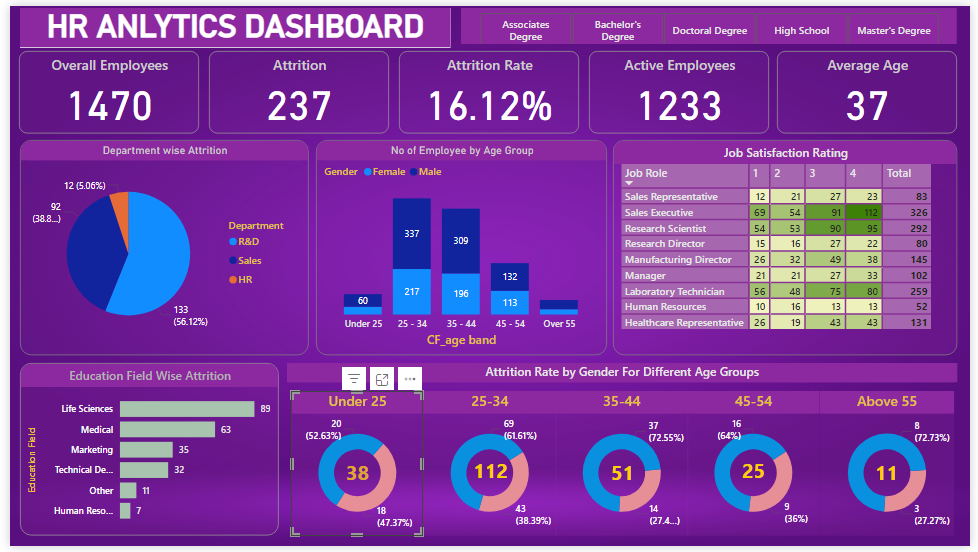

The page's visual inventory and layout, read from the dashboard file:
{"tool":"powerbi","page":{"name":"HR","canvas":[1280,720],"ordinal":0},"visuals":[{"type":"card","title":"Overall Employees","fields":{"Values":["Sum(Table1.Employee Count)"]},"box":[12,60,240,110],"z":0},{"type":"card","title":"Attrition ","fields":{"Values":["Sum(Table1.Attrition Count)"]},"box":[265.7,60,240,110],"z":1000},{"type":"card","title":"Attrition Rate","fields":{"Values":["Table1.Attrition Rate"]},"box":[518,60,240,110],"z":2000},{"type":"card","title":"Active Employees","fields":{"Values":["Table1.Active Employees"]},"box":[772,60,240,110],"z":3000},{"type":"card","title":"Average Age","fields":{"Values":["Avg(Table1.Age)"]},"box":[1022.9,60,240,110],"z":4000},{"type":"pieChart","title":"Department wise Attrition","fields":{"Category":["Table1.Department"],"Y":["Sum(Table1.Attrition Count)"]},"box":[13,178,385,287],"z":5000},{"type":"columnChart","title":"No of Employee by Age Group","fields":{"Category":["Table1.CF_age band"],"Y":["Sum(Table1.Employee Count)"],"Series":["Table1.Gender"]},"box":[408,178,388,287],"z":6000},{"type":"pivotTable","title":"Job Satisfaction Rating","fields":{"Rows":["Table1.Job Role"],"Columns":["Table1.Job Satisfaction"],"Values":["Sum(Table1.Employee Count)"]},"box":[804,178,459,287],"z":7000},{"type":"barChart","title":"Education Field Wise Attrition","fields":{"Category":["Table1.Education Field"],"Y":["Sum(Table1.Attrition Count)"]},"box":[13,476,345,230],"z":8000},{"type":"donutChart","title":"Under 25","fields":{"Category":["Table1.Gender"],"Y":["Sum(Table1.Attrition Count)"],"Series":["Table1.CF_age band"]},"box":[374,513,177,193],"z":9000},{"type":"textbox","title":"Attrition Rate by Gender For Different Age Groups","box":[369,476,894,26],"z":10000},{"type":"donutChart","title":"25-34","fields":{"Category":["Table1.Gender"],"Y":["Sum(Table1.Attrition Count)"],"Series":["Table1.CF_age band"]},"box":[550,513,178,193],"z":11000},{"type":"donutChart","title":"35-44","fields":{"Category":["Table1.Gender"],"Y":["Sum(Table1.Attrition Count)"],"Series":["Table1.CF_age band"]},"box":[726,513,178,193],"z":12000},{"type":"donutChart","title":"45-54","fields":{"Category":["Table1.Gender"],"Y":["Sum(Table1.Attrition Count)"],"Series":["Table1.CF_age band"]},"box":[903,513,177,193],"z":13000},{"type":"donutChart","title":"Above 55","fields":{"Category":["Table1.Gender"],"Y":["Sum(Table1.Attrition Count)"],"Series":["Table1.CF_age band"]},"box":[1080,512.9,178.6,192.9],"z":14000},{"type":"card","fields":{"Values":["Sum(Table1.Attrition Count)"]},"box":[430,593,65,58],"z":15000},{"type":"card","fields":{"Values":["Sum(Table1.Attrition Count)"]},"box":[608,591,65,59],"z":16000},{"type":"card","fields":{"Values":["Sum(Table1.Attrition Count)"]},"box":[784,593,65,58],"z":17000},{"type":"card","fields":{"Values":["Sum(Table1.Attrition Count)"]},"box":[959,591,65,59],"z":18000},{"type":"card","fields":{"Values":["Sum(Table1.Attrition Count)"]},"box":[1136,593,65,58],"z":19000},{"type":"textbox","title":"HR ANLYTICS DASHBOARD","box":[12.9,2.9,574.3,52.9],"z":20000},{"type":"slicer","fields":{"Values":["Table1.Education"]},"box":[601.4,2.9,661.4,48],"z":21000}]}

Visuals, with their boxes in screenshot pixels (x1, y1, x2, y2), scaled from the page's 1280x720 canvas onto the 978x552 screenshot:
"Overall Employees" card: {"x1": 9, "y1": 46, "x2": 193, "y2": 130}
"Attrition " card: {"x1": 203, "y1": 46, "x2": 386, "y2": 130}
"Attrition Rate" card: {"x1": 396, "y1": 46, "x2": 579, "y2": 130}
"Active Employees" card: {"x1": 590, "y1": 46, "x2": 773, "y2": 130}
"Average Age" card: {"x1": 782, "y1": 46, "x2": 965, "y2": 130}
"Department wise Attrition" pieChart: {"x1": 10, "y1": 136, "x2": 304, "y2": 356}
"No of Employee by Age Group" columnChart: {"x1": 312, "y1": 136, "x2": 608, "y2": 356}
"Job Satisfaction Rating" pivotTable: {"x1": 614, "y1": 136, "x2": 965, "y2": 356}
"Education Field Wise Attrition" barChart: {"x1": 10, "y1": 365, "x2": 274, "y2": 541}
"Under 25" donutChart: {"x1": 286, "y1": 393, "x2": 421, "y2": 541}
"Attrition Rate by Gender For Different Age Groups" textbox: {"x1": 282, "y1": 365, "x2": 965, "y2": 385}
"25-34" donutChart: {"x1": 420, "y1": 393, "x2": 556, "y2": 541}
"35-44" donutChart: {"x1": 555, "y1": 393, "x2": 691, "y2": 541}
"45-54" donutChart: {"x1": 690, "y1": 393, "x2": 825, "y2": 541}
"Above 55" donutChart: {"x1": 825, "y1": 393, "x2": 962, "y2": 541}
card - Sum(Table1.Attrition Count): {"x1": 329, "y1": 455, "x2": 378, "y2": 499}
card - Sum(Table1.Attrition Count): {"x1": 465, "y1": 453, "x2": 514, "y2": 498}
card - Sum(Table1.Attrition Count): {"x1": 599, "y1": 455, "x2": 649, "y2": 499}
card - Sum(Table1.Attrition Count): {"x1": 733, "y1": 453, "x2": 782, "y2": 498}
card - Sum(Table1.Attrition Count): {"x1": 868, "y1": 455, "x2": 918, "y2": 499}
"HR ANLYTICS DASHBOARD" textbox: {"x1": 10, "y1": 2, "x2": 449, "y2": 43}
slicer - Table1.Education: {"x1": 460, "y1": 2, "x2": 965, "y2": 39}
